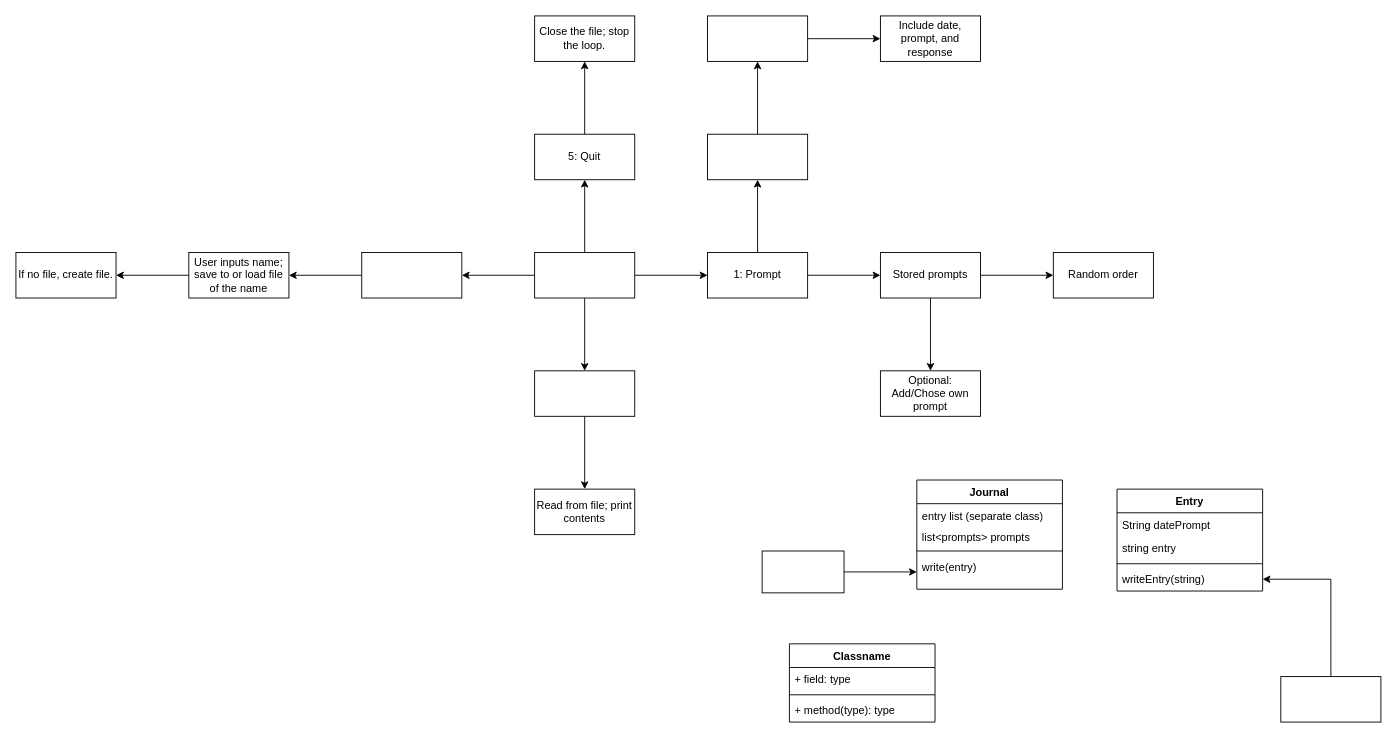
This 1397x741 diagram has some shape labels left out. The shapes that lost their labels are listed below. From the top down, each one's box as (x1, y1, x2, y2) in pixels, then its label:
(707, 15, 808, 61): Input; stored in file
(707, 133, 808, 180): Responding to prompt
(361, 252, 462, 298): 3: Save to file 4: Load from file
(534, 252, 635, 298): Select from menu
(534, 370, 635, 416): 2: Display Entries
(761, 550, 844, 593): Add entry to list; display prompt
(1280, 676, 1381, 722): Ask for the input; gather the date, combine
